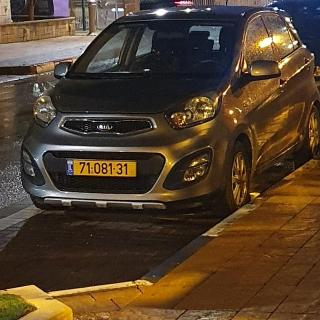LicensePlate: (73, 160, 136, 177)
